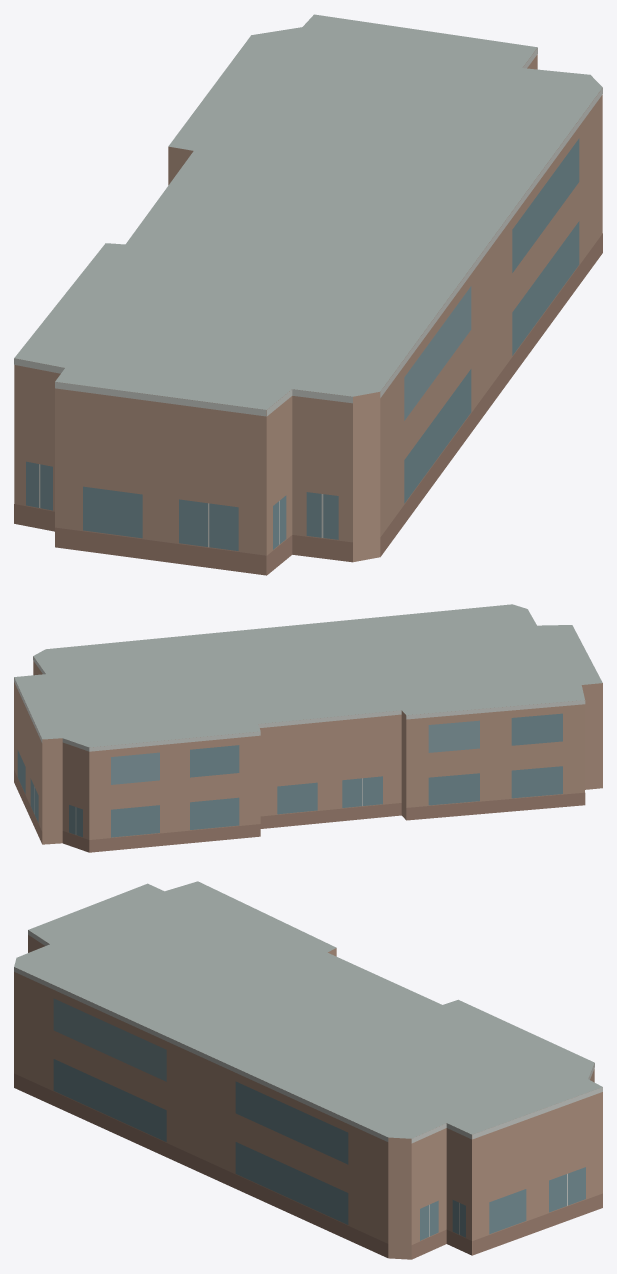
File: survey-upis-32836497.glb
3 views of the same model, one above another, from view 1: azimuth 30°, elevation 25°; view 2: azimuth 150°, elevation 25°; view 3: azimuth 270°, elevation 25° (orthographic). The views are drawn at different scales.
Parts seen in each view (by area): view 1: survey-upis-32836497.tmp; view 2: survey-upis-32836497.tmp; view 3: survey-upis-32836497.tmp.
Part boxes in pixels (x1,y1,x2,y2): survey-upis-32836497.tmp: [14, 14, 602, 575]; survey-upis-32836497.tmp: [14, 604, 602, 852]; survey-upis-32836497.tmp: [14, 881, 602, 1259].
Size of the model in its own units: 27.88 by 6.1 by 26.93.
